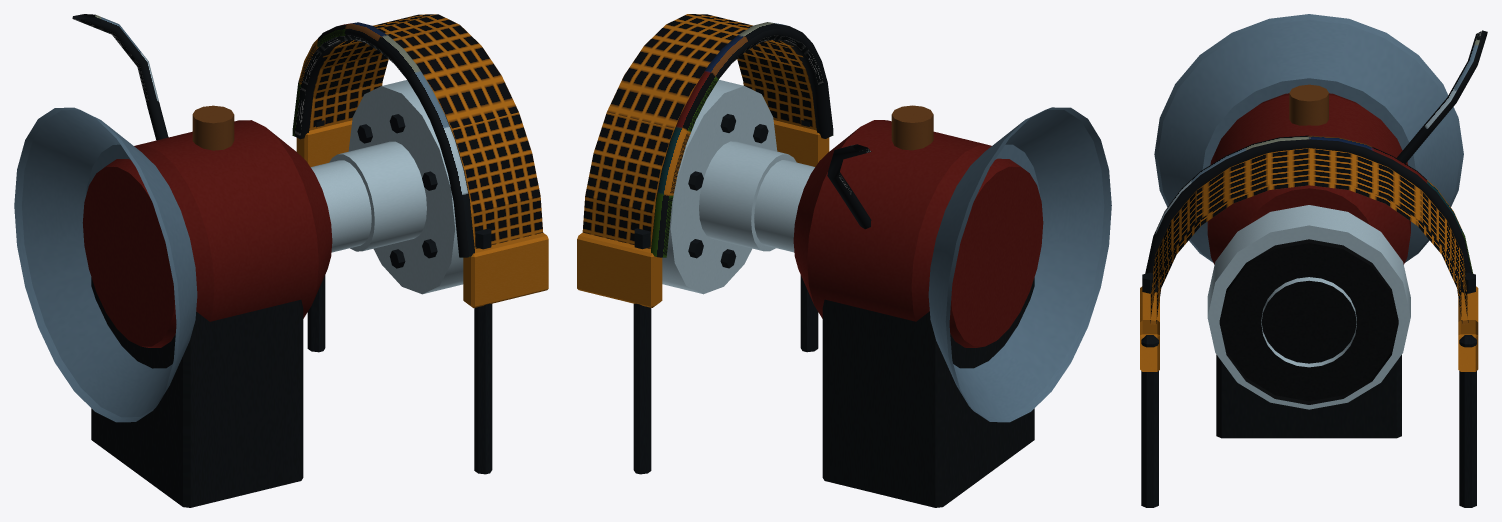
Rendered from cell_35.obj.
The picture shows the model from 3 angles, left to right: view 1: azimuth 30°, elevation 25°; view 2: azimuth 150°, elevation 25°; view 3: azimuth 270°, elevation 25°; orthographic projection. The views are drawn at different scales.
Visible parts, largest first — view 1: cell_35; view 2: cell_35; view 3: cell_35.
Part boxes in pixels (x1=…): cell_35: x1=14, y1=14, x2=548, y2=507; cell_35: x1=577, y1=14, x2=1111, y2=507; cell_35: x1=1140, y1=14, x2=1487, y2=507.
Bounding box in the file's own units: 1 × 1 × 0.8654.
